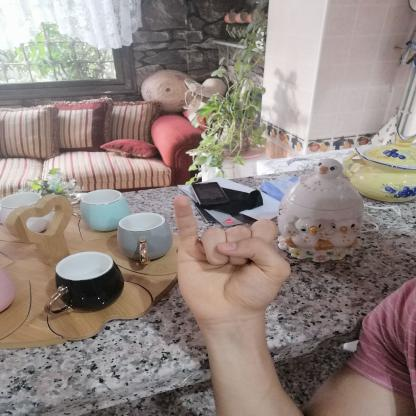MEEM: (154, 188, 307, 332)
